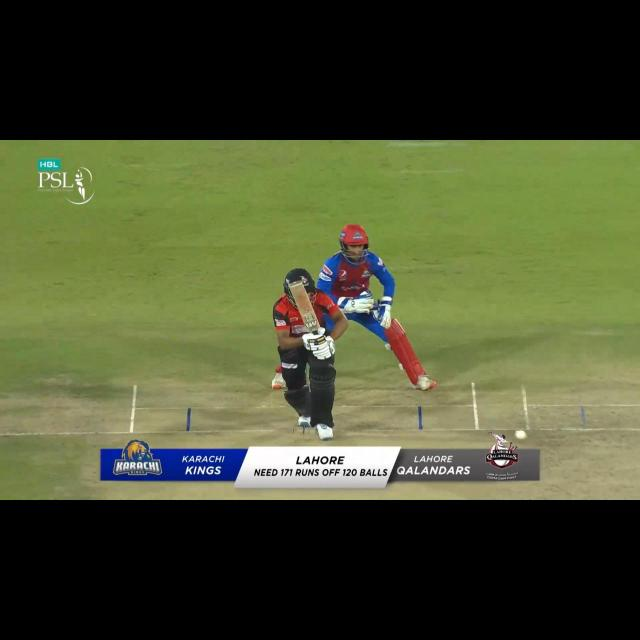bat: (289, 278, 316, 332)
toe: (288, 280, 304, 292)
